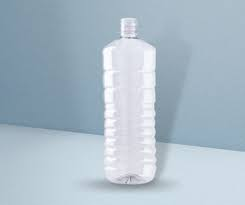Botella: (103, 18, 156, 183)
